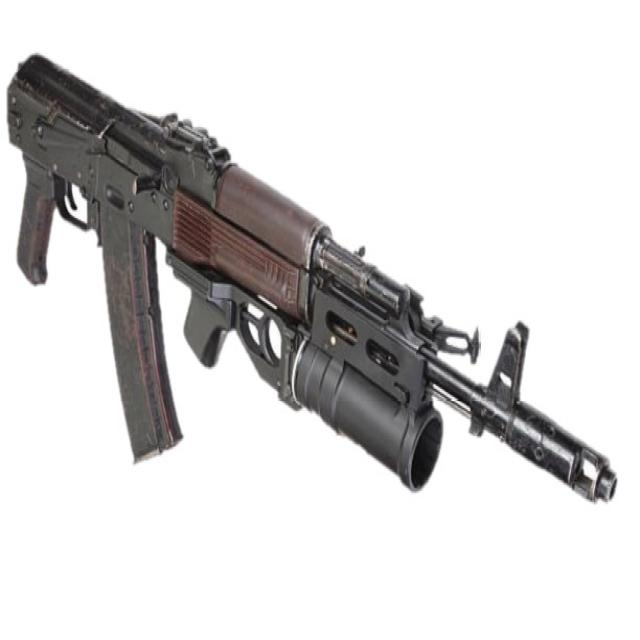rifle: (2, 43, 624, 518)
